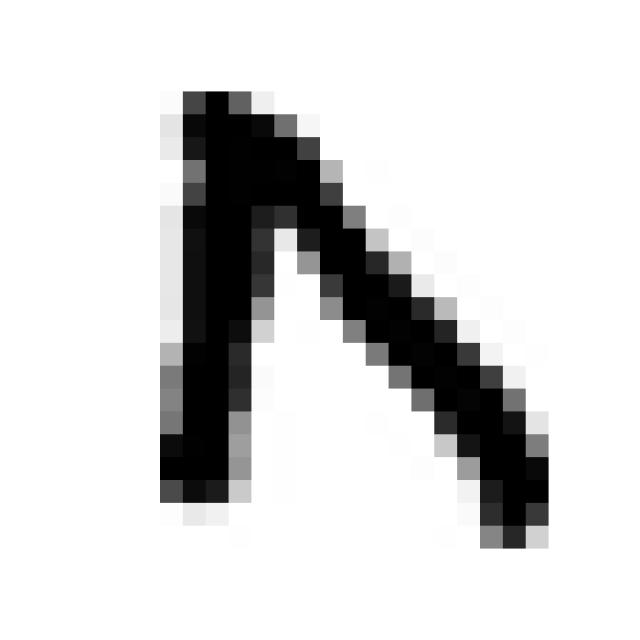8 -eight-: (137, 52, 573, 576)
